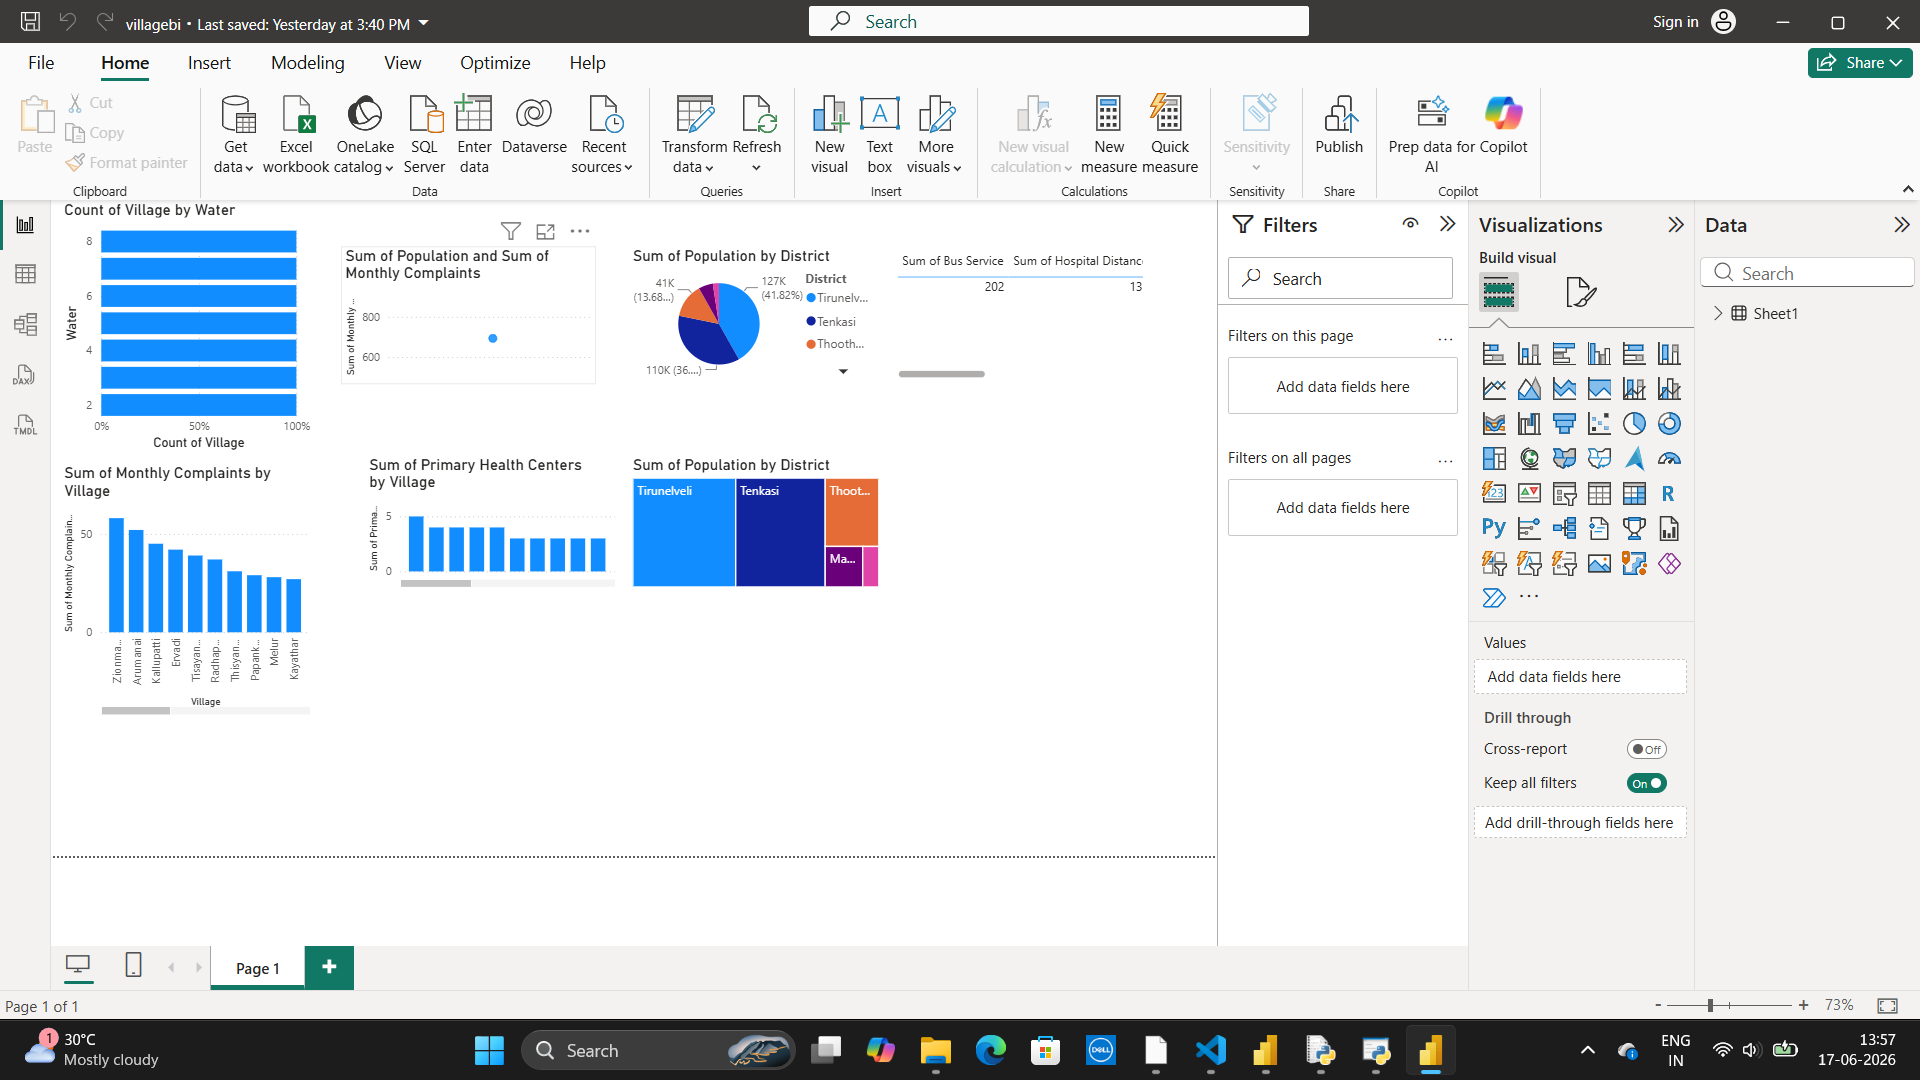

What the dashboard file says about the page in this screenshot:
{"tool":"powerbi","page":{"name":"Page 1","canvas":[1280,720],"ordinal":0},"visuals":[{"type":"hundredPercentStackedBarChart","fields":{"Y":["CountNonNull(Sheet1.Village)"],"Category":["Sheet1.Water"]},"box":[10,0,280,280],"z":0},{"type":"clusteredColumnChart","fields":{"Category":["Sheet1.Village"],"Y":["Sum(Sheet1.Monthly Complaints)"]},"box":[10,290,280,280],"z":1},{"type":"scatterChart","fields":{"X":["Sum(Sheet1.Population)"],"Y":["Sum(Sheet1.Monthly Complaints)"]},"box":[318.6,51.4,280,150],"z":2},{"type":"columnChart","fields":{"Category":["Sheet1.Village"],"Y":["Sum(Sheet1.Primary Health Centers)"]},"box":[344.3,280,280,150],"z":3},{"type":"pieChart","fields":{"Category":["Sheet1.District"],"Y":["Sum(Sheet1.Population)"]},"box":[634,51,280,150],"z":4},{"type":"treemap","fields":{"Details":["Sheet1.District"],"Values":["Sum(Sheet1.Population)"]},"box":[634,280,280,150],"z":5},{"type":"tableEx","fields":{"Values":["Sum(Sheet1.Bus Service )","Sum(Sheet1.Hospital Distance)","Sum(Sheet1.Internet connection )","Sum(Sheet1.Monthly Complaints)","Sum(Sheet1.Population)"]},"box":[924,51,280,150],"z":6}]}

Visuals, with their boxes on the page's 1280x720 design canvas (x1, y1, x2, y2). These are canvas units, not pixel positions in the 1920x1080 screenshot, which may show the page scaled, cropped or inside an application window:
hundredPercentStackedBarChart - CountNonNull(Sheet1.Village) x Sheet1.Water: bbox=[10, 0, 290, 280]
clusteredColumnChart - Sheet1.Village x Sum(Sheet1.Monthly Complaints): bbox=[10, 290, 290, 570]
scatterChart - Sum(Sheet1.Population) x Sum(Sheet1.Monthly Complaints): bbox=[319, 51, 599, 201]
columnChart - Sheet1.Village x Sum(Sheet1.Primary Health Centers): bbox=[344, 280, 624, 430]
pieChart - Sheet1.District x Sum(Sheet1.Population): bbox=[634, 51, 914, 201]
treemap - Sheet1.District x Sum(Sheet1.Population): bbox=[634, 280, 914, 430]
tableEx - Sum(Sheet1.Bus Service ) x Sum(Sheet1.Hospital Distance): bbox=[924, 51, 1204, 201]
